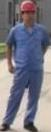boots: (24, 122, 38, 132), (0, 119, 11, 128)
hard-hat: (20, 1, 36, 13)
